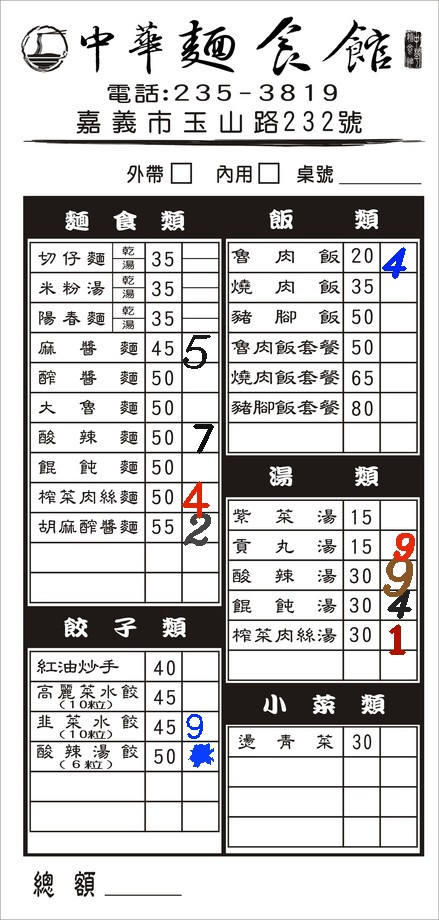marked_circle: (182, 743, 218, 772)
marked_number_1: (380, 619, 416, 648)
marked_number_2: (181, 512, 217, 541)
marked_number_4: (380, 589, 416, 618), (381, 242, 417, 271), (181, 483, 217, 512)
marked_number_5: (182, 332, 218, 361)
marked_number_7: (181, 424, 217, 453)
marked_number_9: (380, 561, 416, 590), (380, 531, 416, 560), (181, 711, 217, 740)
